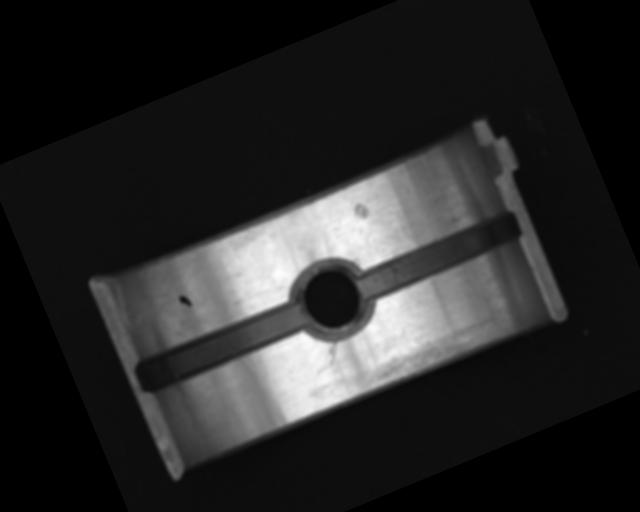blot: (176, 291, 193, 311)
bruise: (350, 199, 373, 222)
gap: (130, 294, 313, 398), (353, 206, 525, 303)
hole: (285, 249, 382, 350)
nick: (322, 339, 345, 367)
scratch: (358, 308, 515, 396)
